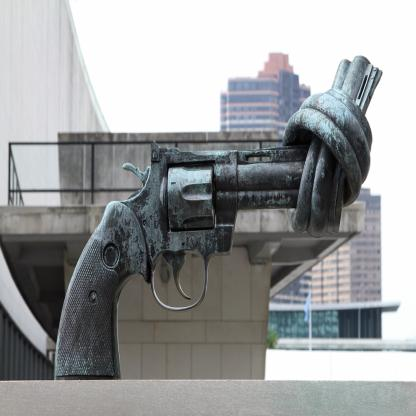Handgun: (54, 54, 382, 381)
